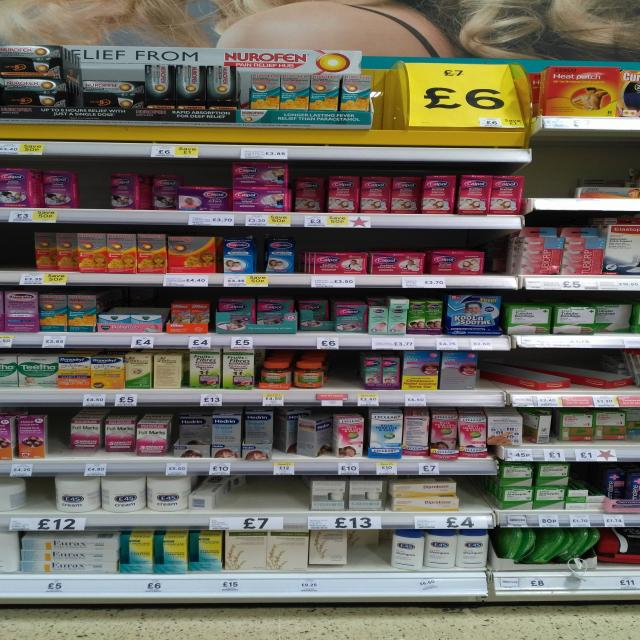void: (480, 351, 640, 391), (228, 476, 302, 511), (532, 139, 574, 199), (0, 226, 31, 275), (326, 350, 363, 390), (459, 475, 494, 512)
